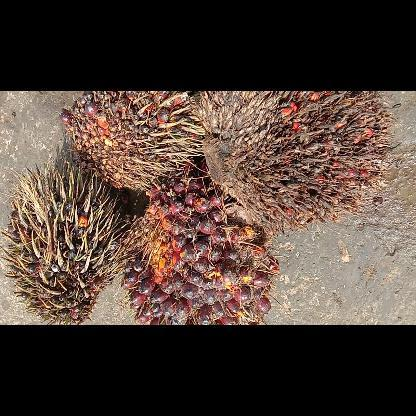Kurang masak: (0, 158, 122, 324)
TBS abnormal: (192, 91, 392, 225), (60, 91, 206, 191)
Terlalu masak: (119, 174, 276, 324)
